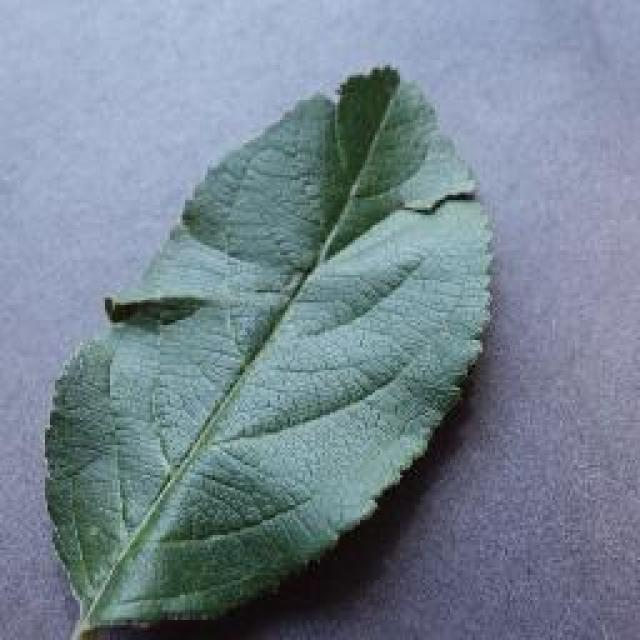apple healthy: (40, 62, 498, 638)
